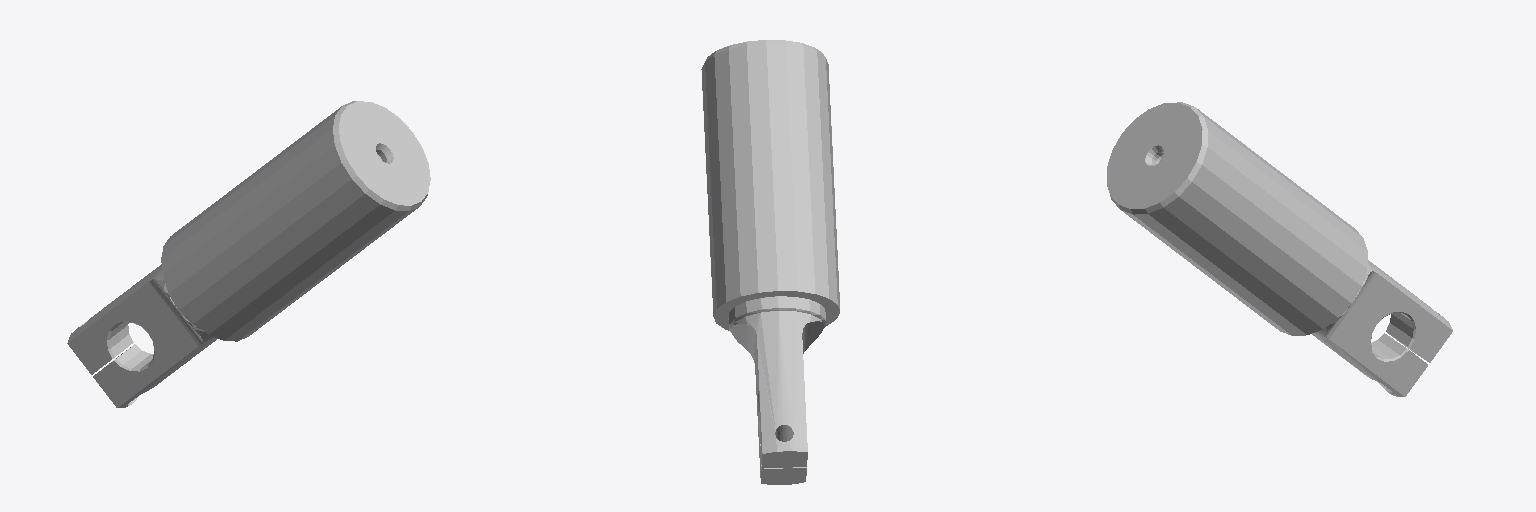
The model's file is ActuatorTopLeft.obj.
3 renders of one model, left to right at view 1: azimuth 30°, elevation 25°; view 2: azimuth 150°, elevation 25°; view 3: azimuth 270°, elevation 25°, orthographic.
Visible parts, largest first — view 1: 1300_derived_Shaft.stp; view 2: 1300_derived_Shaft.stp; view 3: 1300_derived_Shaft.stp.
Part boxes in pixels (bbox=[...]): 1300_derived_Shaft.stp: bbox=[67, 101, 430, 407]; 1300_derived_Shaft.stp: bbox=[701, 40, 839, 484]; 1300_derived_Shaft.stp: bbox=[1107, 102, 1452, 396].
Size of the model in its own units: 0.1453 by 0.2086 by 0.1908.